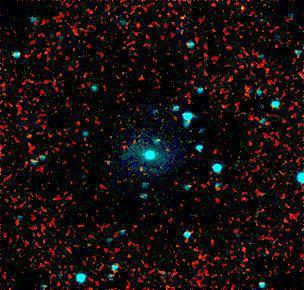star: (129, 153, 159, 183)
